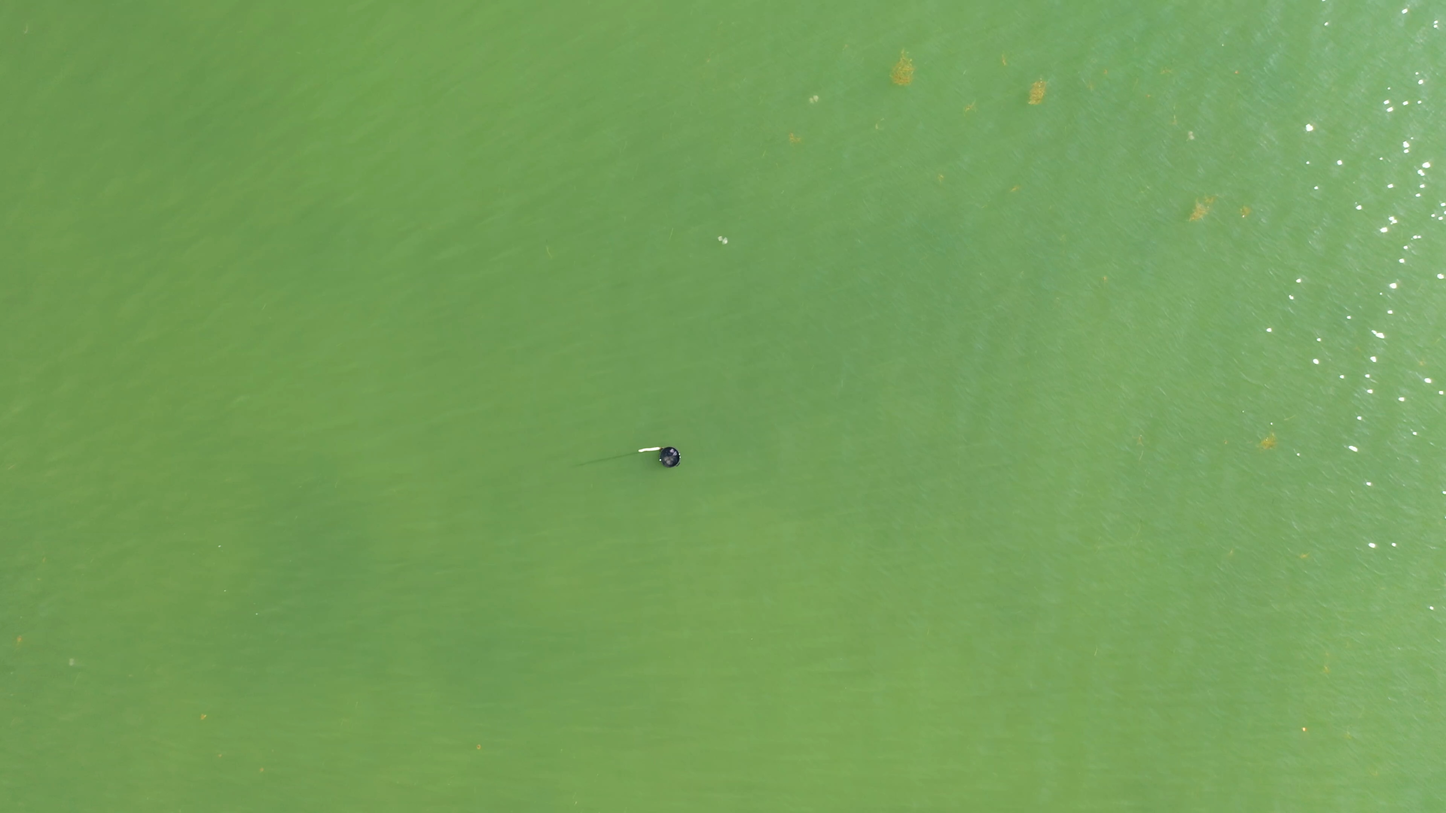meduse: (1185, 131, 1194, 142), (809, 95, 818, 105), (722, 239, 731, 247), (69, 659, 75, 665)
